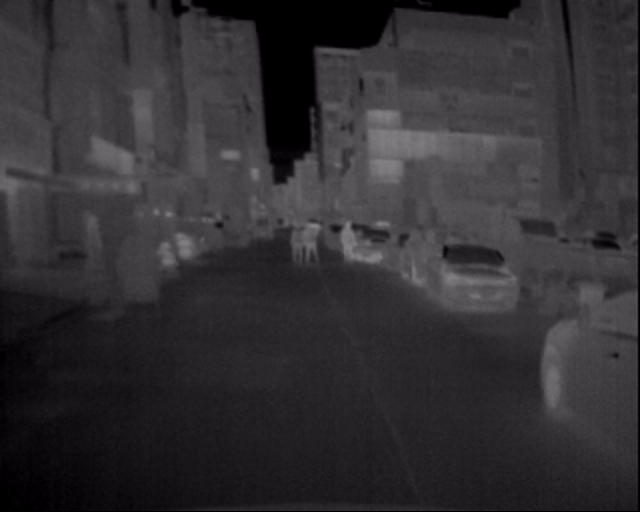person: (289, 204, 316, 280), (304, 210, 329, 277), (340, 206, 360, 274)
